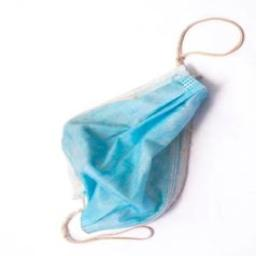Unrecycled: (61, 63, 210, 247)
